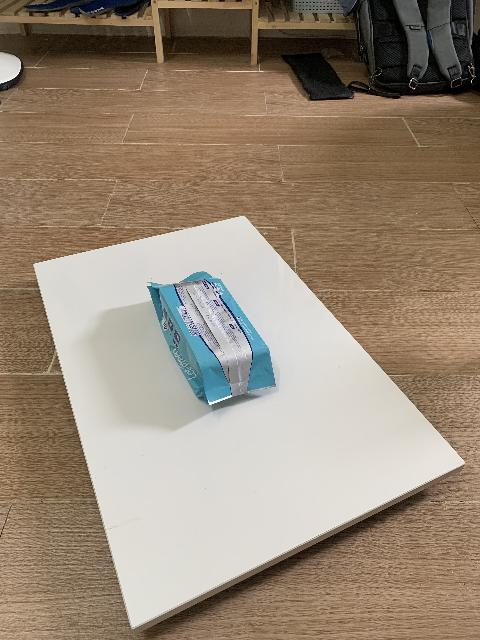Let-green_alcohol_wipes: (146, 271, 276, 406)
